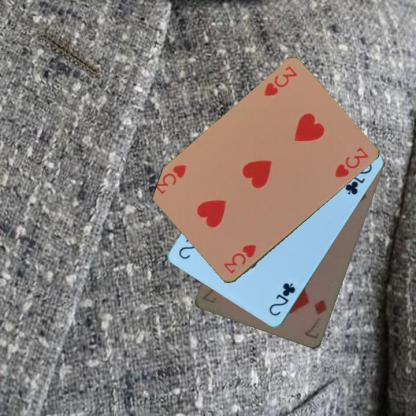2c: (266, 280, 298, 318)
3h: (261, 64, 298, 98), (220, 242, 258, 275)
7d: (301, 296, 328, 340)
